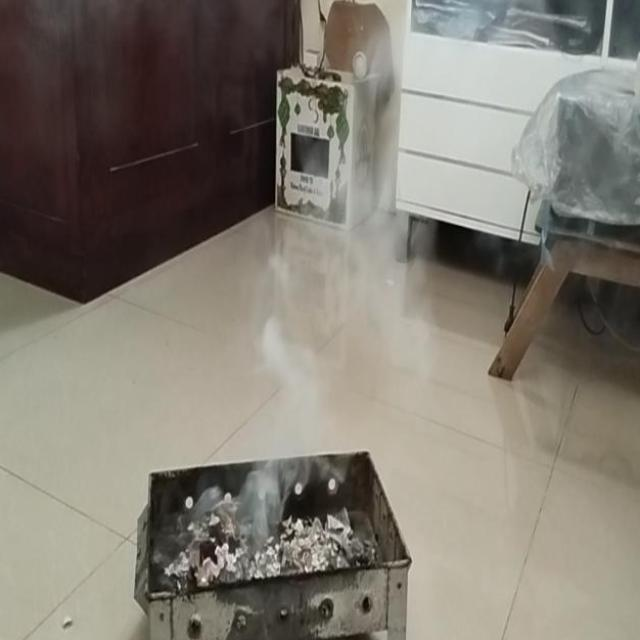fire: (335, 61, 427, 341), (253, 294, 329, 526), (267, 137, 330, 290)
